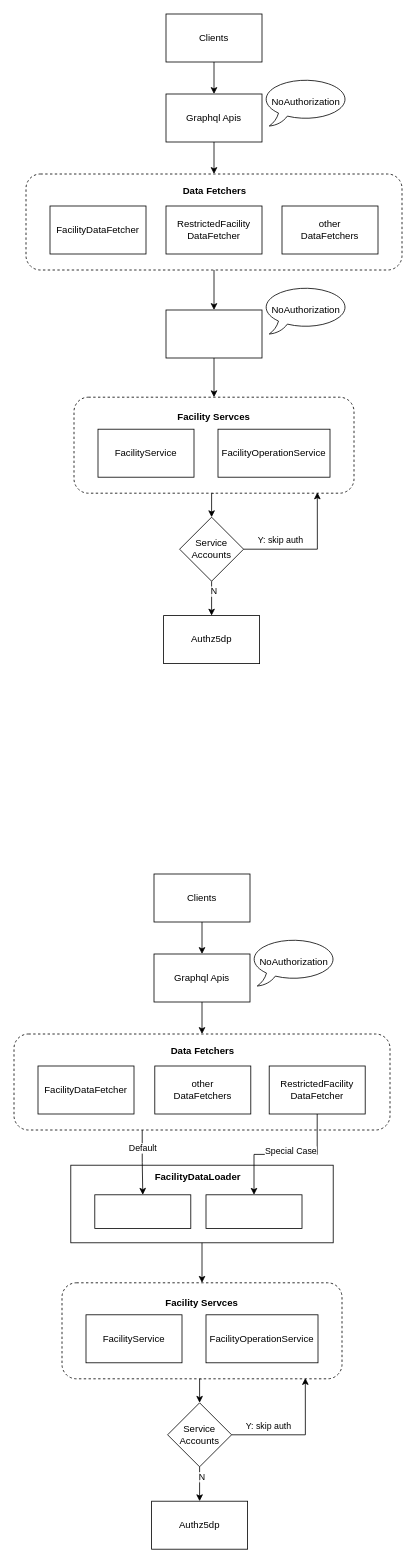
Some shapes in this 416 by 1563 pixel diagram are drawn without their labels. Here are the shapes that lost their labels. From the top down, the box of each, then its label:
(165, 309, 262, 358): FacilityDataLoader Admin Creds
(94, 1194, 191, 1228): Clients with User Client
(205, 1194, 302, 1228): Clients with Admin Client
